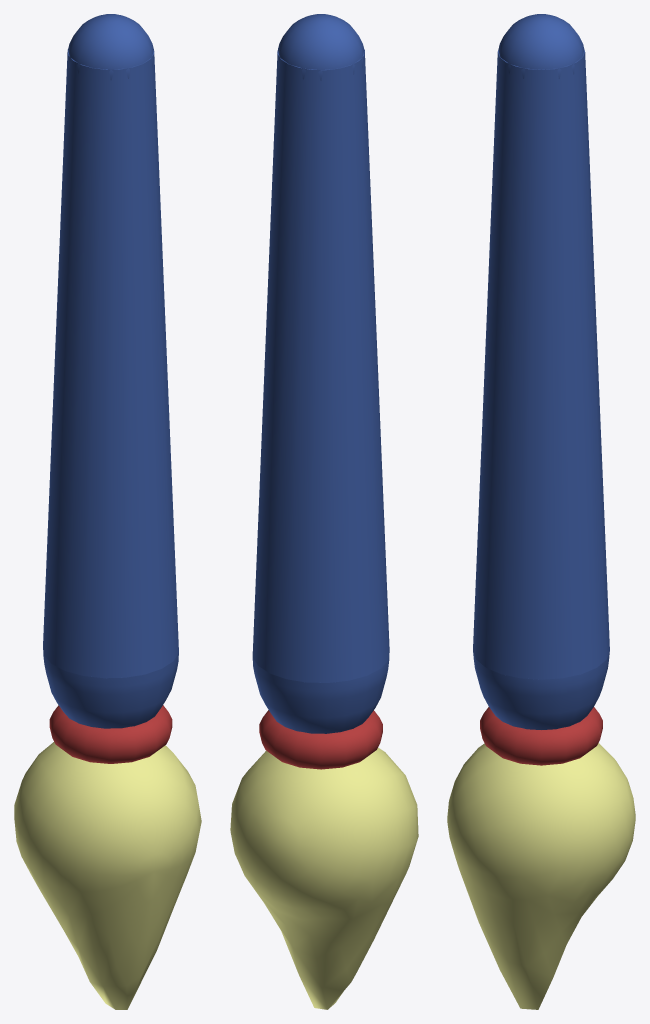
The model's file is HandBrush.fbx.
3 renders of one model, left to right at view 1: azimuth 30°, elevation 25°; view 2: azimuth 150°, elevation 25°; view 3: azimuth 270°, elevation 25°, orthographic.
Parts seen in each view (by area): view 1: pCylinder1, painttip, polySurface1, CoRing, pSphere1; view 2: pCylinder1, painttip, polySurface1, CoRing, pSphere1; view 3: pCylinder1, painttip, polySurface1, CoRing, pSphere1.
Part boxes in pixels (x1,y1,x2,y2): pCylinder1: (43,49,178,678); painttip: (14,742,201,1009); polySurface1: (43,648,178,728); CoRing: (49,705,172,763); pSphere1: (68,14,154,80); pCylinder1: (252,48,389,682); painttip: (230,747,418,1009); polySurface1: (252,652,389,733); CoRing: (259,710,382,769); pSphere1: (277,14,364,80); pCylinder1: (473,50,609,679); painttip: (447,743,635,1009); polySurface1: (473,651,609,729); CoRing: (480,707,602,765); pSphere1: (498,14,584,78).
Bounding box in the file's own units: 3.01 × 17.41 × 3.01.
